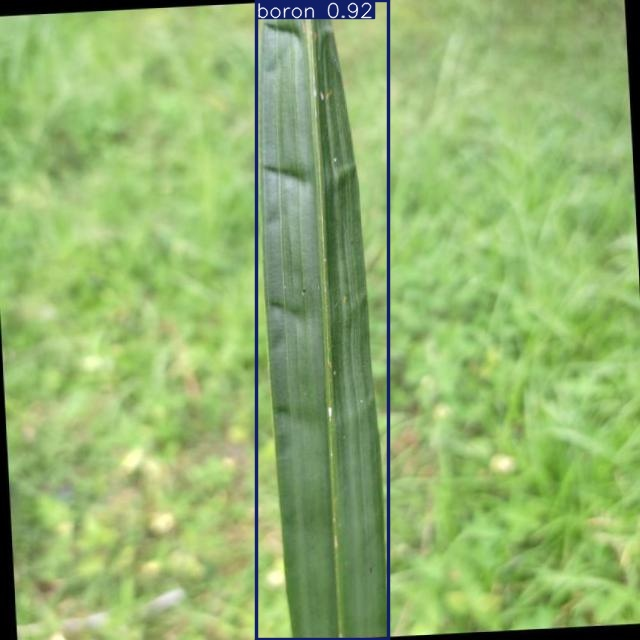nitrogen: (257, 0, 389, 640)
